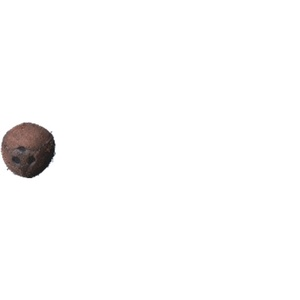coco: (1, 123, 56, 178)
